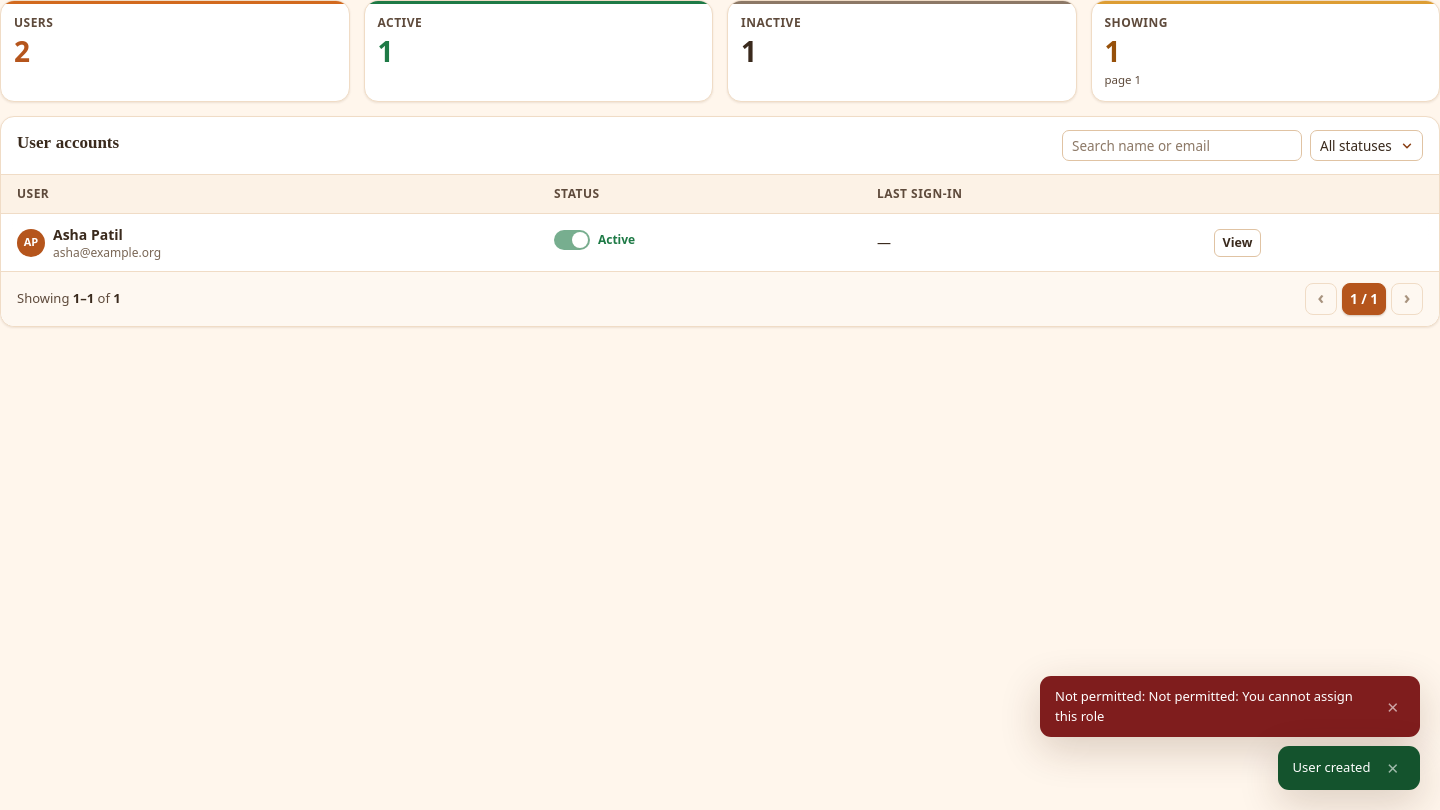
Test: <UsersTab> › View shows a failed read with a working retry
The image size is (1440, 810).
What coordinates should you click on to do the following:
click the button named "View Asha Patil"
I would click on:
 (1238, 243)
Its box is [1214,229,1261,257].
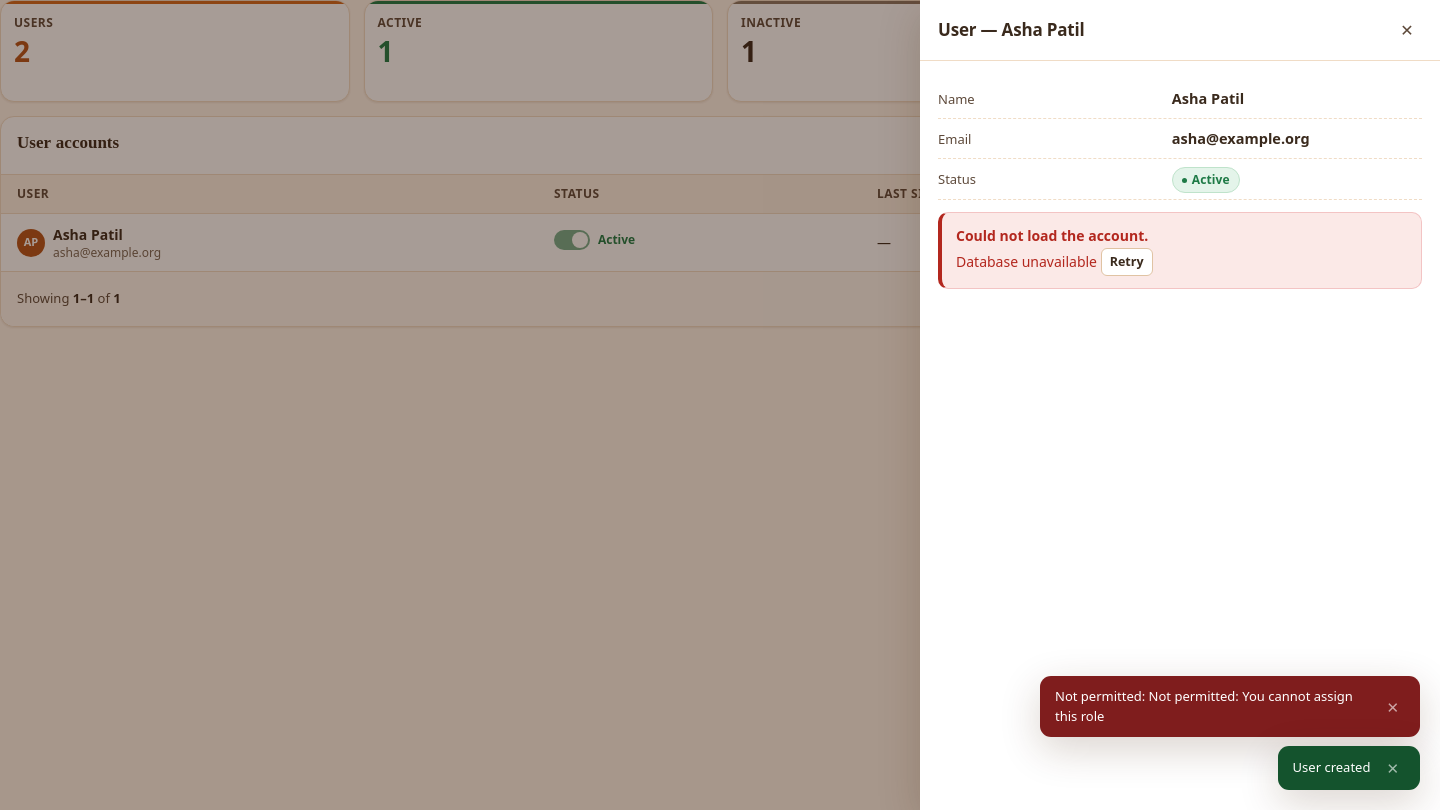
Check: the message shows "Could not load the account. Database unavailable", box [938,212,1422,289]
What coordinates should you click on to do the following:
click the button "Retry"
I would click on:
 (1127, 262)
Its box is [1101,248,1153,276].
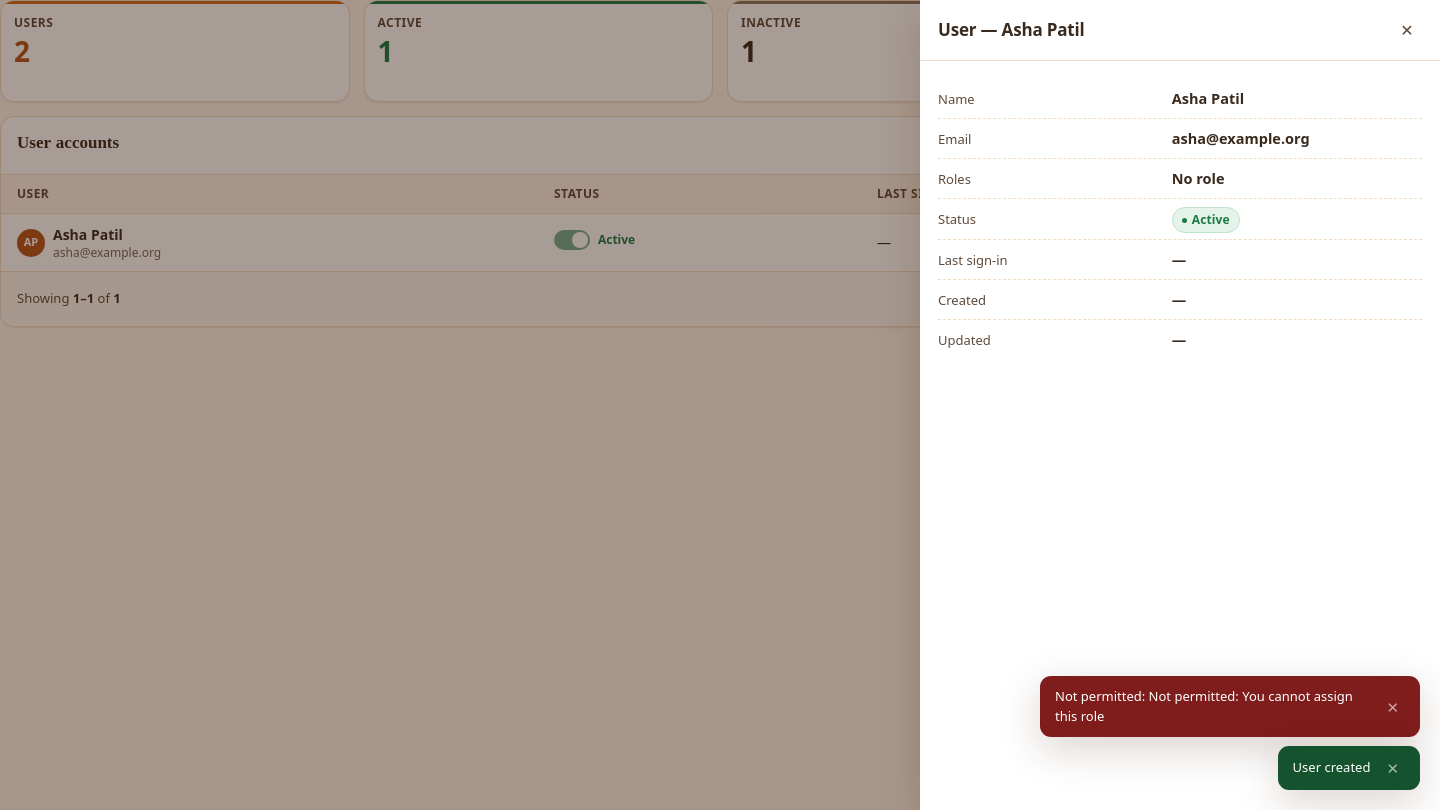
Check: the text "No role" is shown, box [1172,168,1225,188]
Check: the message "Could not load the account. Database unavailable Retry" is gone
